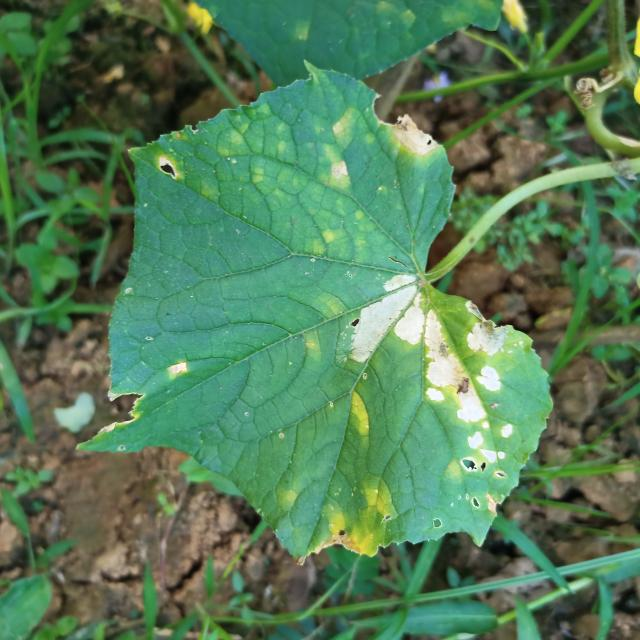disease_cucumber: (340, 265, 519, 498), (316, 467, 406, 560), (298, 109, 364, 202), (335, 381, 383, 449)
